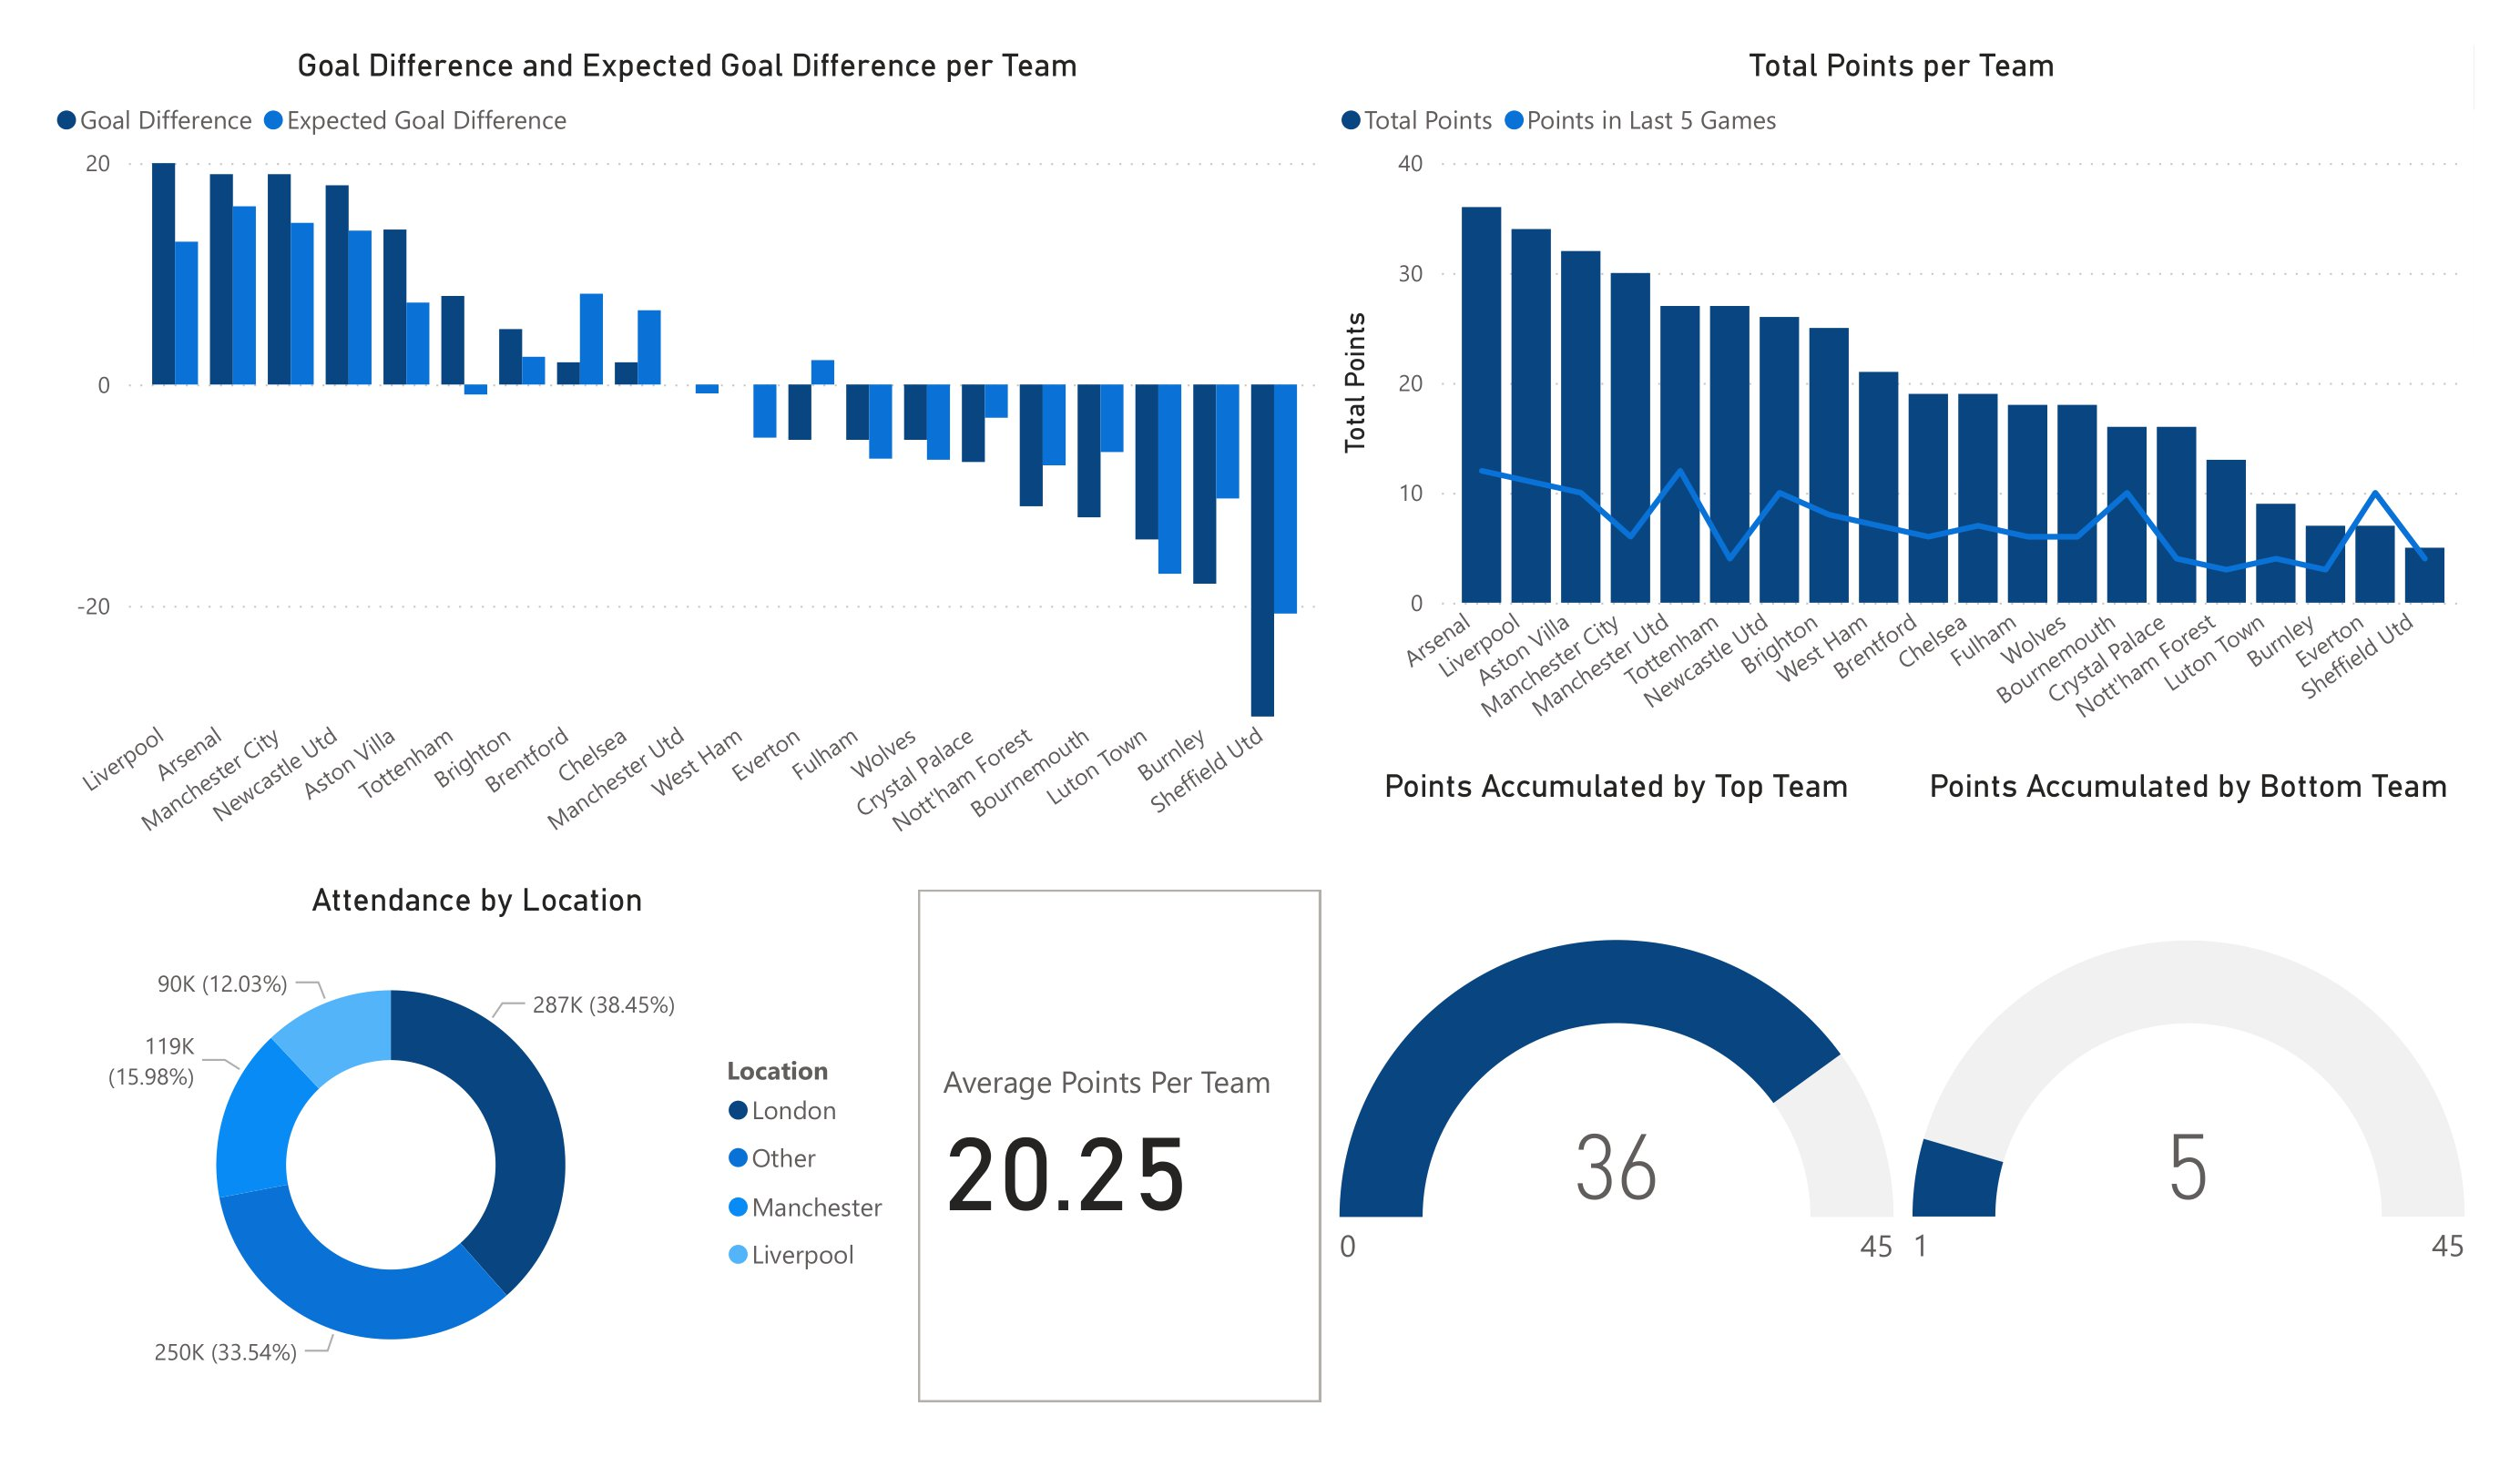

Layout of this report page (visuals, bound fields, positions):
{"tool":"powerbi","page":{"name":"Page 2","canvas":[1280,720],"ordinal":1},"visuals":[{"type":"donutChart","fields":{"Y":["Sum(Clean_PL_12-07-2023.Attendance)"],"Category":["Clean_PL_12-07-2023.Squad (groups)"]},"box":[0,440.1,455.2,280.5],"z":0},{"type":"lineStackedColumnComboChart","title":"Total Points per Team","fields":{"Category":["Clean_PL_12-07-2023.Squad"],"Y2":["Sum(Clean_PL_12-07-2023.Points_from_last_5)"],"Y":["Sum(Clean_PL_12-07-2023.Pts)"]},"box":[677,0,603,379.6],"z":1000},{"type":"gauge","title":"Points Accumulated by Bottom Team","fields":{"Y":["Min(Clean_PL_12-07-2023.Pts)"]},"box":[979.3,379.6,300.7,341],"z":1001},{"type":"gauge","title":"Points Accumulated by Top Team","fields":{"Y":["Max(Clean_PL_12-07-2023.Pts)"]},"box":[677,379.6,302.4,341],"z":1002},{"type":"clusteredColumnChart","title":"Goal Difference and Expected Goal Difference per Team","fields":{"Y":["Sum(Clean_PL_12-07-2023.GD)","Sum(Clean_PL_12-07-2023.xGD)"],"Category":["Clean_PL_12-07-2023.Squad"]},"box":[0,0,677,440.1],"z":1003},{"type":"cardVisual","fields":{"Data":["Avg(Clean_PL_12-07-2023.Pts)"]},"box":[455,440,222,280],"z":1004}]}

Visuals, with their boxes in screenshot pixels (x1, y1, x2, y2):
donutChart - Sum(Clean_PL_12-07-2023.Attendance) x Clean_PL_12-07-2023.Squad (groups): {"left": 46, "top": 881, "right": 909, "bottom": 1411}
"Total Points per Team" lineStackedColumnComboChart: {"left": 1331, "top": 46, "right": 2474, "bottom": 766}
"Points Accumulated by Bottom Team" gauge: {"left": 1903, "top": 766, "right": 2474, "bottom": 1411}
"Points Accumulated by Top Team" gauge: {"left": 1331, "top": 766, "right": 1904, "bottom": 1411}
"Goal Difference and Expected Goal Difference per Team" clusteredColumnChart: {"left": 46, "top": 46, "right": 1331, "bottom": 881}
cardVisual - Avg(Clean_PL_12-07-2023.Pts): {"left": 909, "top": 881, "right": 1331, "bottom": 1411}
